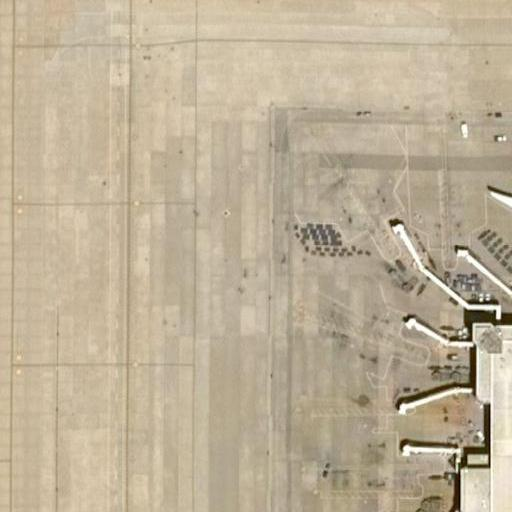Aircraft: (479, 136, 512, 268)
